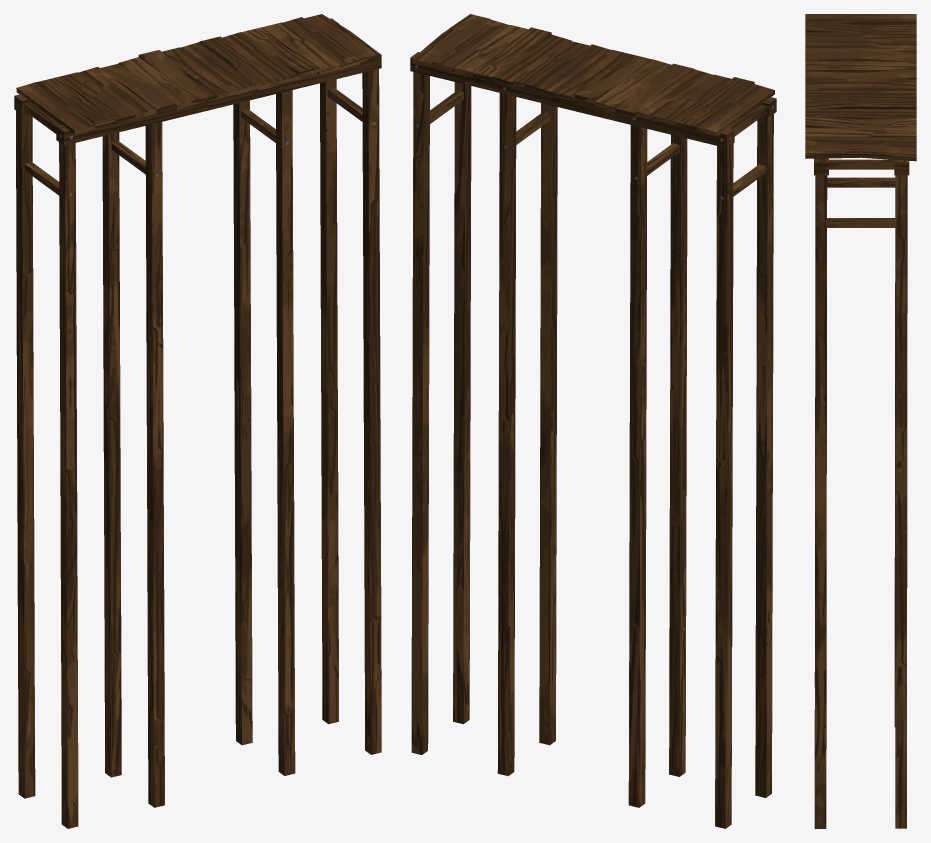
The model's file is CPlattformLtexturedDASHIER.dae.
3 renders of one model, left to right at view 1: azimuth 30°, elevation 25°; view 2: azimuth 150°, elevation 25°; view 3: azimuth 270°, elevation 25°, orthographic. The views are drawn at different scales.
Visible parts, largest first — view 1: Plane.009; view 2: Plane.009; view 3: Plane.009.
Boxes of the visible parts, left/top/right/bottom form: Plane.009: left=14, top=14, right=381, bottom=828; Plane.009: left=410, top=14, right=776, bottom=828; Plane.009: left=805, top=14, right=916, bottom=828.
Size of the model in its own units: 5.62 by 1.78 by 11.89.
1 material, 1 textured.
